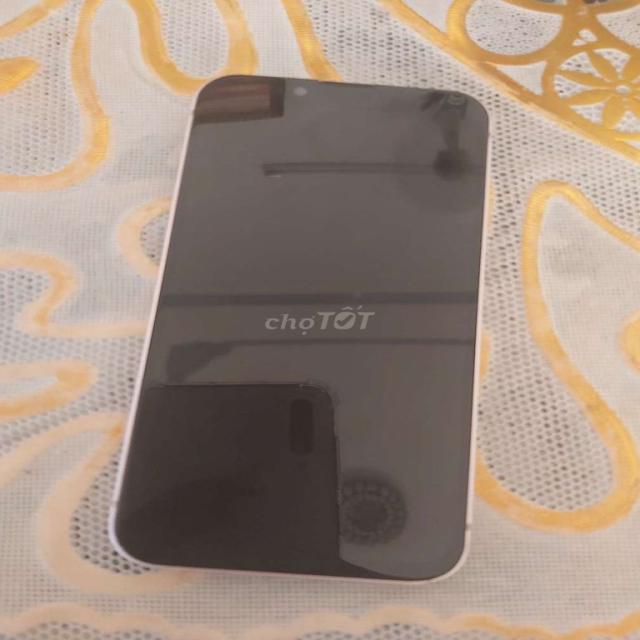gen_12_13: (105, 63, 500, 598)
